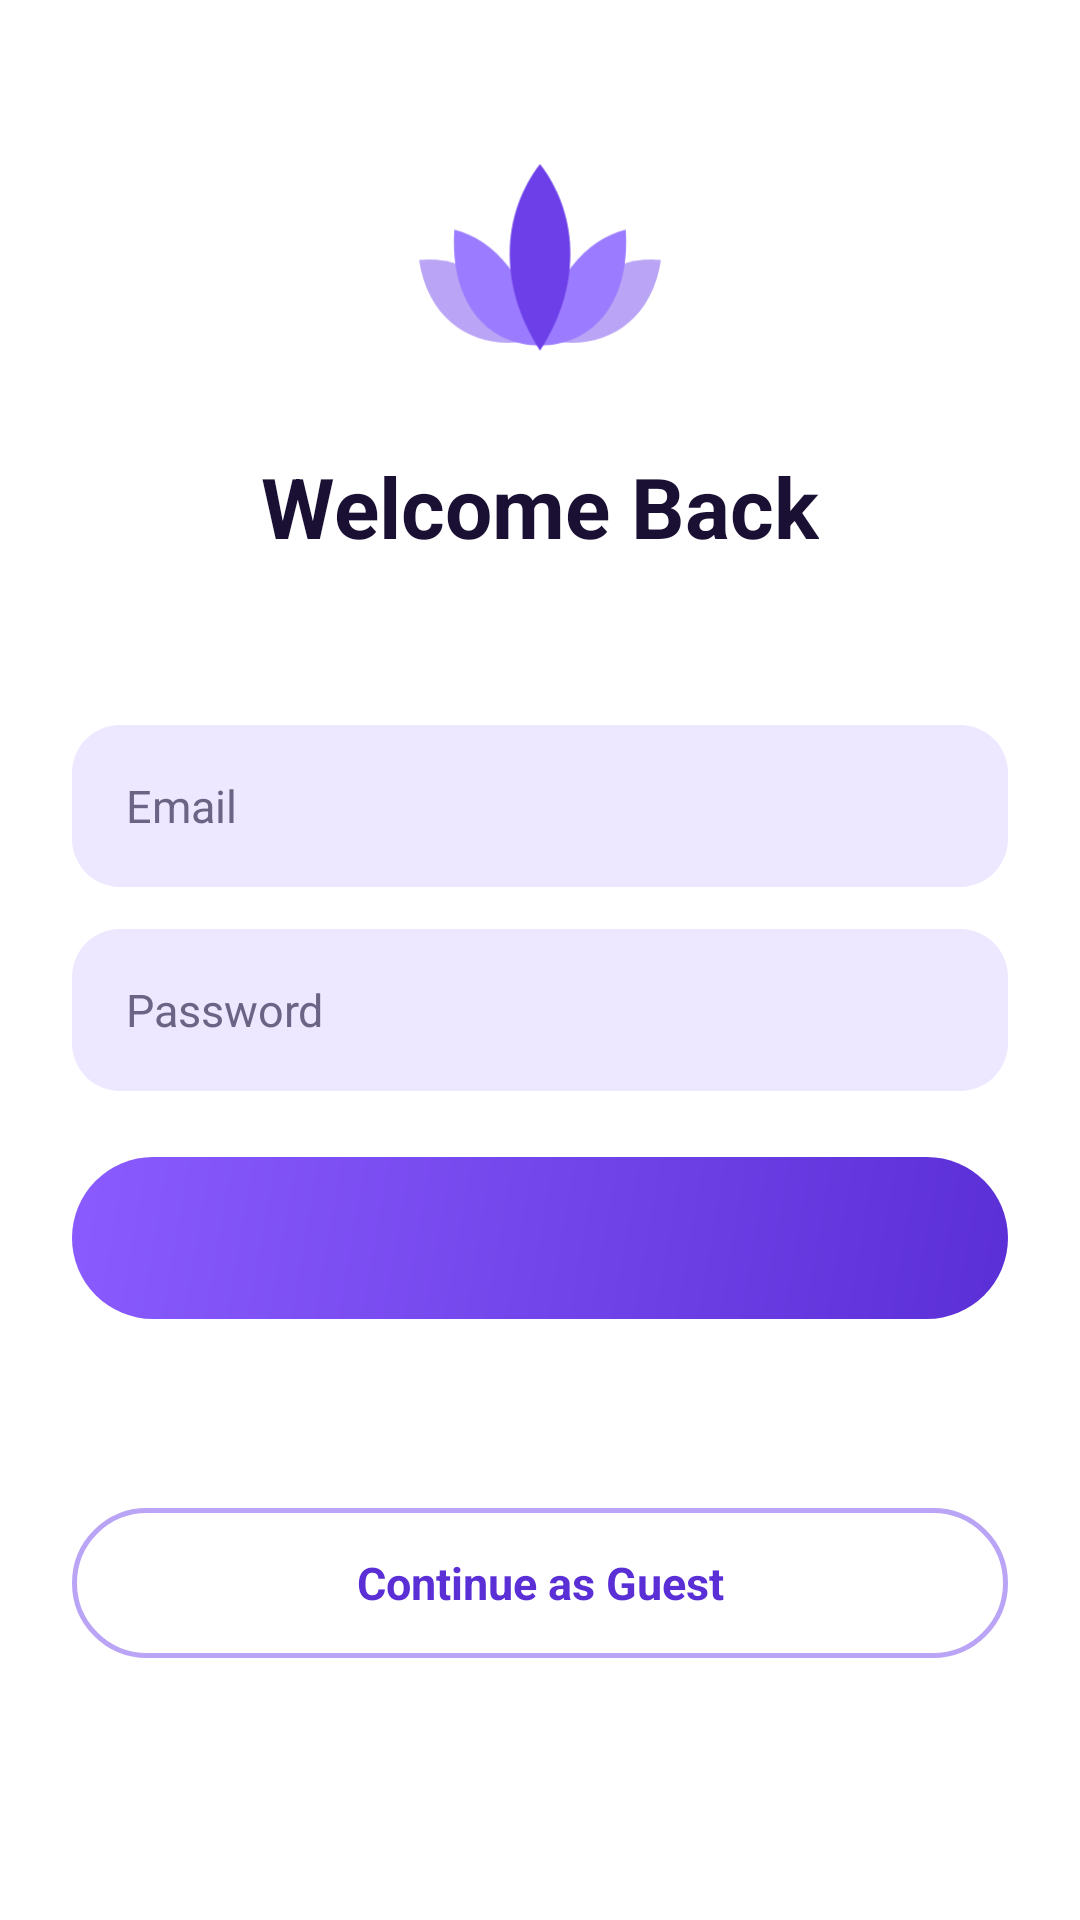

Screen size 1080×1920. Icon name, then its box in pixels as region(x1, y1, x2, y2):
lotus: region(419, 164, 661, 351)
